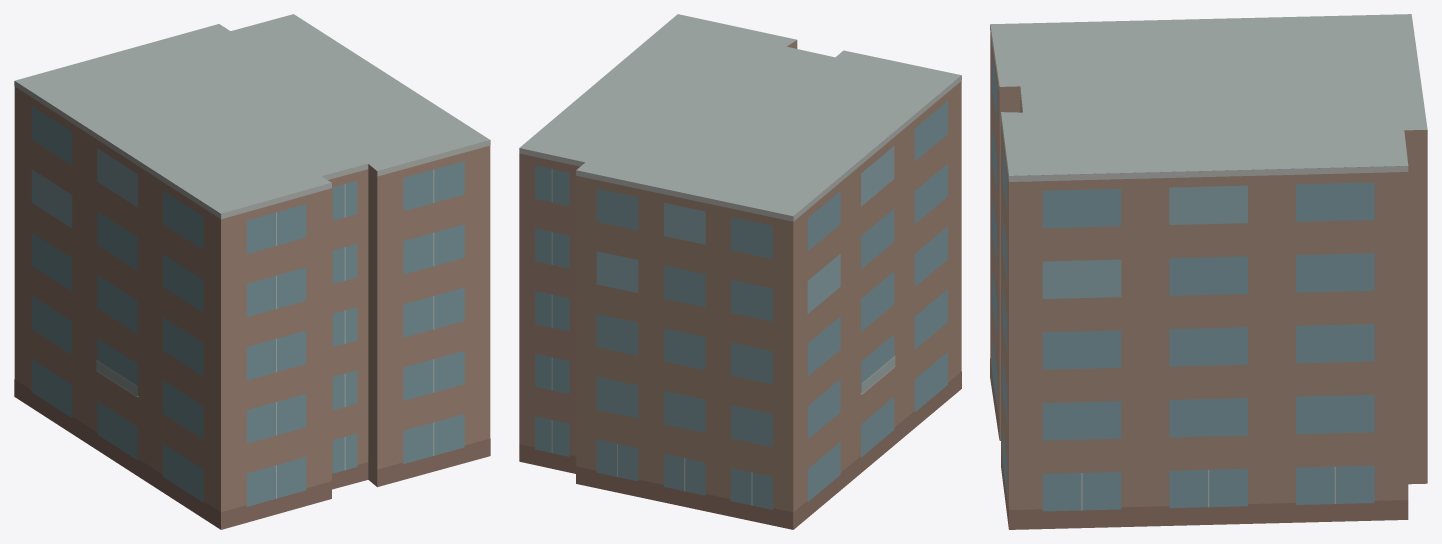
File: survey-upis-32742147.glb
3 renders of one model, left to right at view 1: azimuth 30°, elevation 25°; view 2: azimuth 150°, elevation 25°; view 3: azimuth 270°, elevation 25°, orthographic. The views are drawn at different scales.
Visible parts, largest first — view 1: survey-upis-32742147.tmp; view 2: survey-upis-32742147.tmp; view 3: survey-upis-32742147.tmp.
Boxes of the visible parts, left/top/right/bottom form: survey-upis-32742147.tmp: left=14, top=14, right=490, bottom=529; survey-upis-32742147.tmp: left=519, top=14, right=961, bottom=529; survey-upis-32742147.tmp: left=990, top=14, right=1427, bottom=529.
Bounding box in the file's own units: 13.84 × 14.1 × 15.8.
